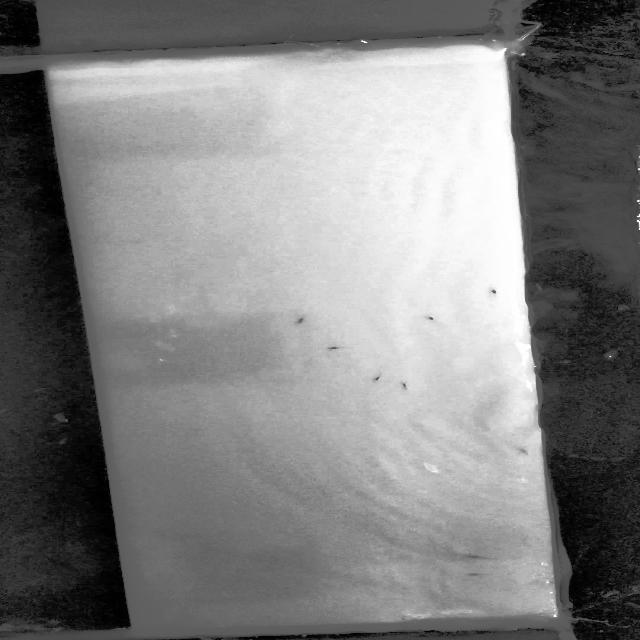shrimp: (324, 341, 352, 355), (393, 374, 415, 391), (510, 443, 534, 455), (420, 312, 443, 324), (459, 551, 489, 560), (485, 287, 503, 301), (372, 369, 390, 382), (456, 570, 484, 578), (292, 315, 312, 325)
